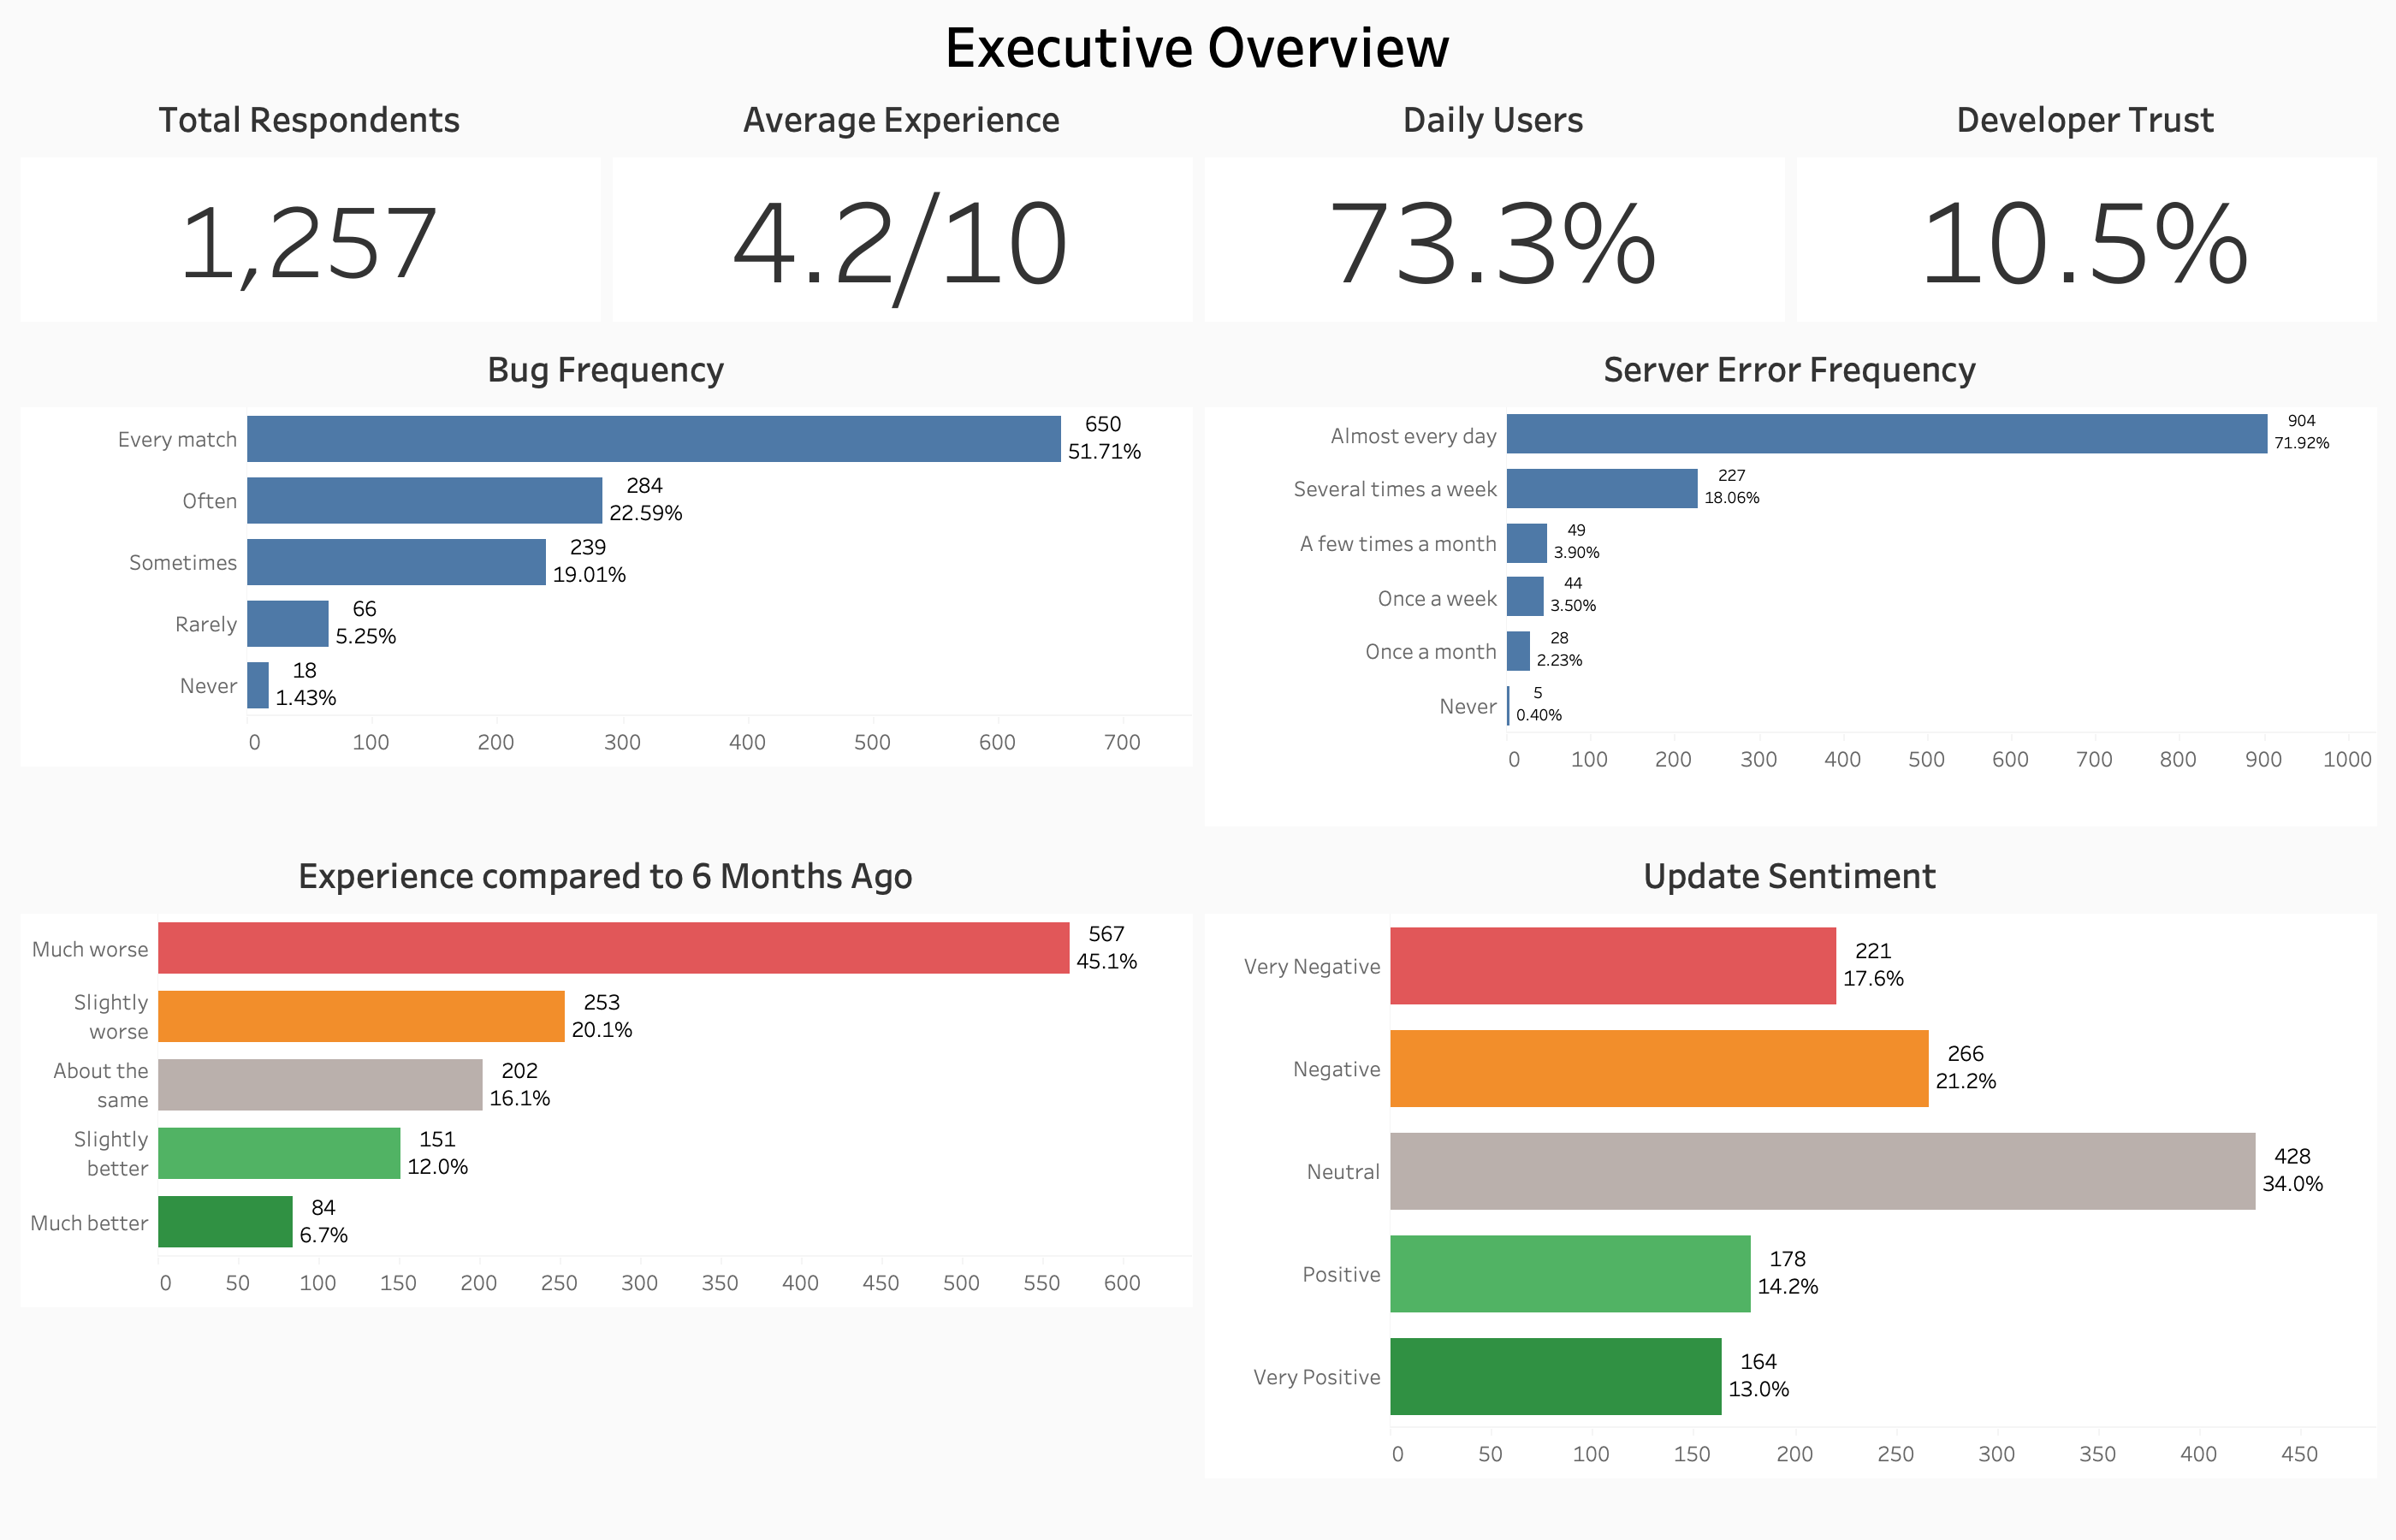

What the dashboard file says about the page in this screenshot:
{"tool":"tableau","page":{"name":"Executive Overview","canvas":[1400,900],"ordinal":1},"visuals":[{"type":"text","box":[8,8,1384,37.5]},{"type":"worksheet","title":"KPI - Total Respondents","mark":"Automatic","box":[8,45.5,346,145.5]},{"type":"worksheet","title":"KPI - Avg Experience","mark":"Automatic","box":[354,45.5,346,145.5]},{"type":"worksheet","title":"KPI - Daily Players %","mark":"Automatic","box":[700,45.5,346,145.5]},{"type":"worksheet","title":"KPI - Developer Trust %","mark":"Automatic","box":[1046,45.5,346,145.5]},{"type":"worksheet","title":"Bug Frequency","mark":"Automatic","rows":["bug_frequency"],"cols":["bug_frequency"],"box":[8,191,692,296]},{"type":"worksheet","title":"Reported Server Error Frequency ","mark":"Automatic","rows":["server_error_frequency"],"cols":["server_error_frequency"],"box":[700,191,692,296]},{"type":"worksheet","title":"Experience vs Previous 6 Months","mark":"Automatic","rows":["experience_vs_6_months"],"cols":["experience_vs_6_months"],"box":[8,487,692,405]},{"type":"worksheet","title":"Update Sentiment","mark":"Automatic","rows":["update_sentiment"],"cols":["survey_cleaned_623C9F8EB4D145EEA04E6DE69FEC866A"],"box":[700,487,692,405]}]}

Visuals, with their boxes in screenshot pixels (x1, y1, x2, y2), scaled from the page's 1400x900 canvas onto the 2396x1540 screenshot:
text: {"x1": 14, "y1": 14, "x2": 2382, "y2": 78}
"KPI - Total Respondents" worksheet: {"x1": 14, "y1": 78, "x2": 606, "y2": 327}
"KPI - Avg Experience" worksheet: {"x1": 606, "y1": 78, "x2": 1198, "y2": 327}
"KPI - Daily Players %" worksheet: {"x1": 1198, "y1": 78, "x2": 1790, "y2": 327}
"KPI - Developer Trust %" worksheet: {"x1": 1790, "y1": 78, "x2": 2382, "y2": 327}
"Bug Frequency" worksheet: {"x1": 14, "y1": 327, "x2": 1198, "y2": 833}
"Reported Server Error Frequency " worksheet: {"x1": 1198, "y1": 327, "x2": 2382, "y2": 833}
"Experience vs Previous 6 Months" worksheet: {"x1": 14, "y1": 833, "x2": 1198, "y2": 1526}
"Update Sentiment" worksheet: {"x1": 1198, "y1": 833, "x2": 2382, "y2": 1526}
